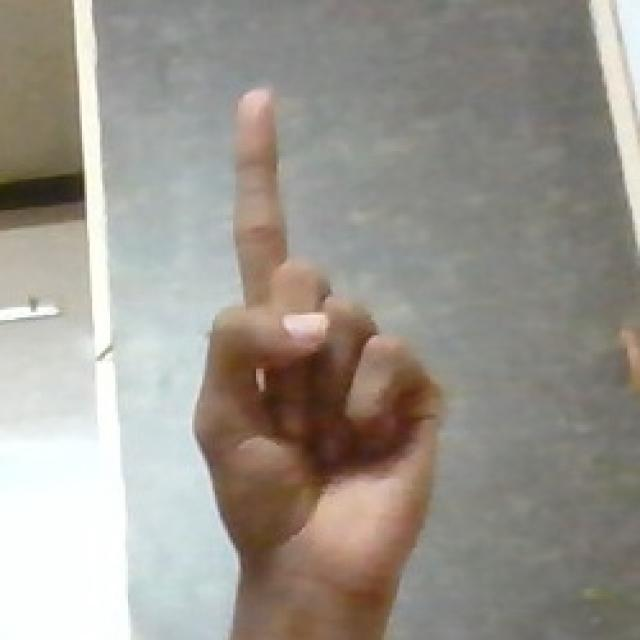Numeric-1: (195, 90, 444, 624)
